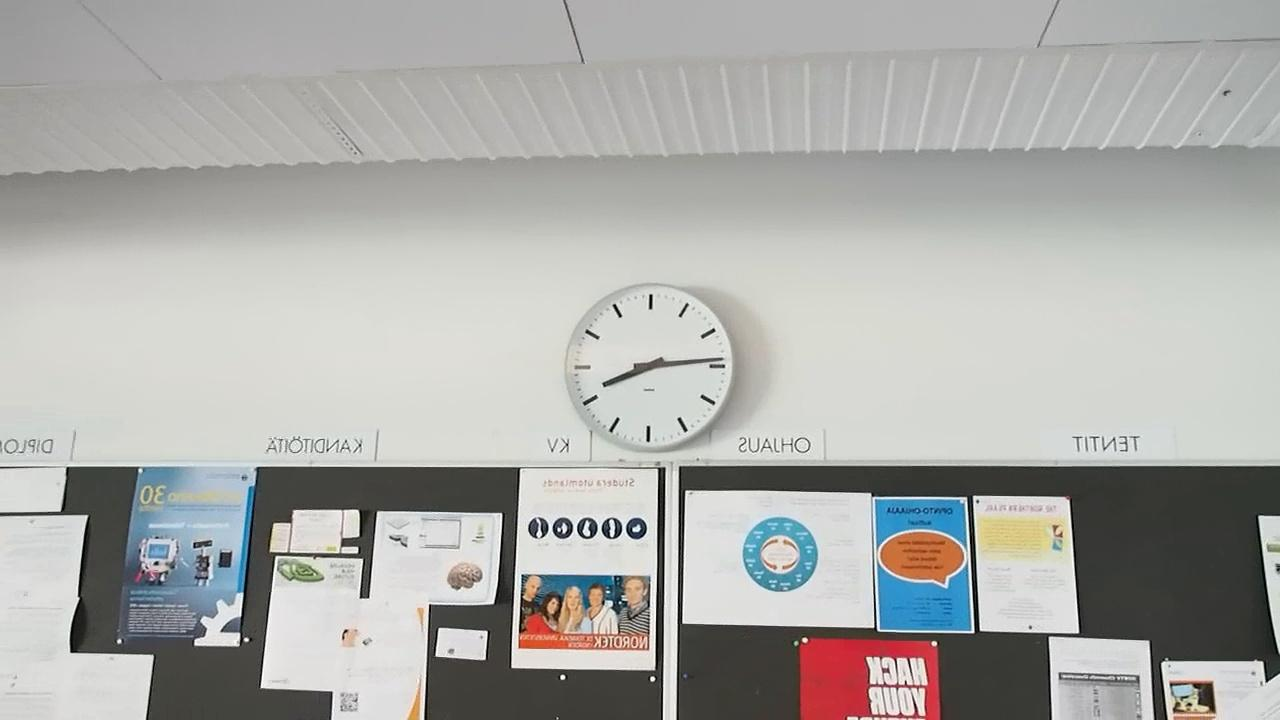clock: (557, 284, 743, 463)
